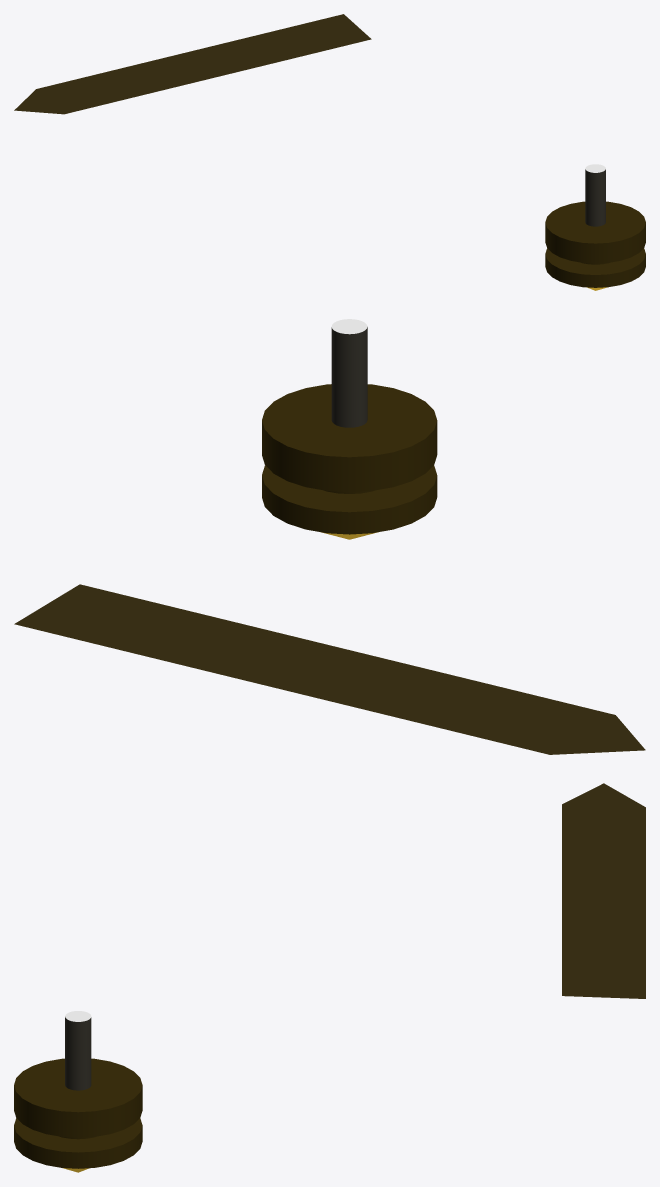
The model's file is fan.dae.
3 views of the same model, one above another, from view 1: azimuth 30°, elevation 25°; view 2: azimuth 150°, elevation 25°; view 3: azimuth 270°, elevation 25° (orthographic). The views are drawn at different scales.
Parts seen in each view (by area): view 1: SketchUp (×4); view 2: SketchUp (×4); view 3: SketchUp (×4).
Part boxes in pixels (x1,y1,x2,y2): SketchUp (×4): (14,14,645,287); SketchUp (×4): (14,327,645,754); SketchUp (×4): (14,783,645,1168).
Bounding box in the file's own units: 64.36 × 65.74 × 17.94.
